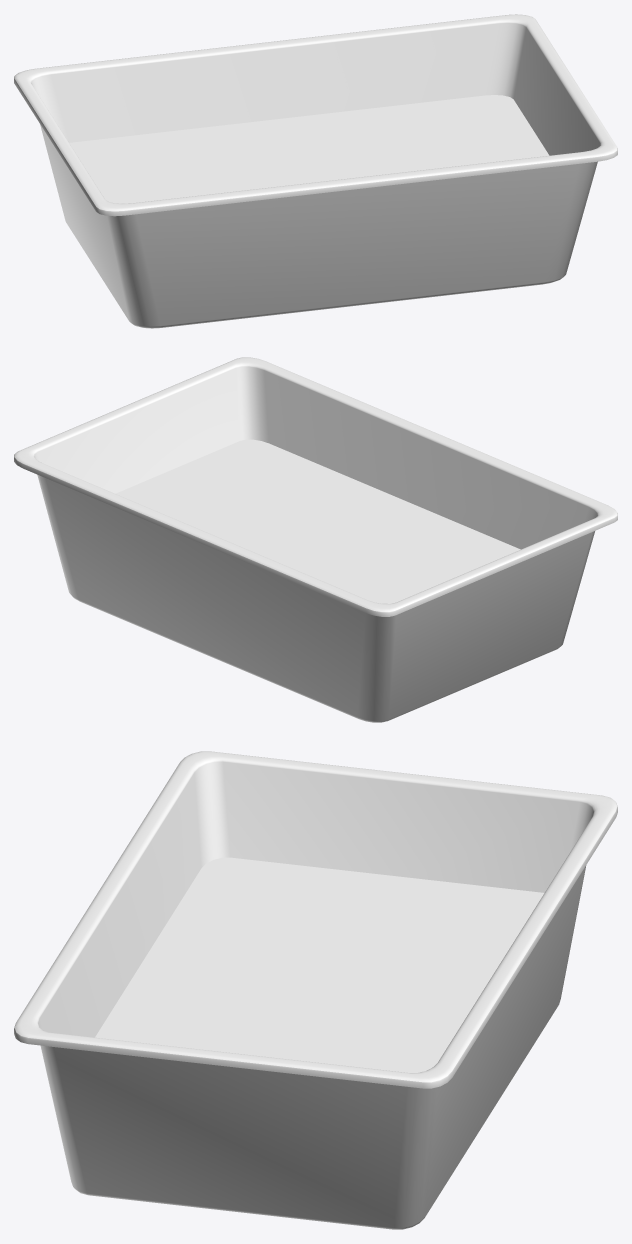
Rendered from Trough.fbx.
3 views of the same model, one above another, from view 1: azimuth 30°, elevation 25°; view 2: azimuth 150°, elevation 25°; view 3: azimuth 270°, elevation 25° (orthographic). The views are drawn at different scales.
Parts seen in each view (by area): view 1: trough, water; view 2: trough, water; view 3: trough, water.
Part boxes in pixels (x1,y1,x2,y2): trough: [14, 14, 617, 328]; water: [69, 95, 549, 203]; trough: [14, 357, 617, 722]; water: [115, 439, 520, 603]; trough: [14, 751, 617, 1229]; water: [95, 857, 544, 1072].
Bounding box in the file's own units: 59.44 × 15.26 × 45.81.
1 material, 1 textured.
